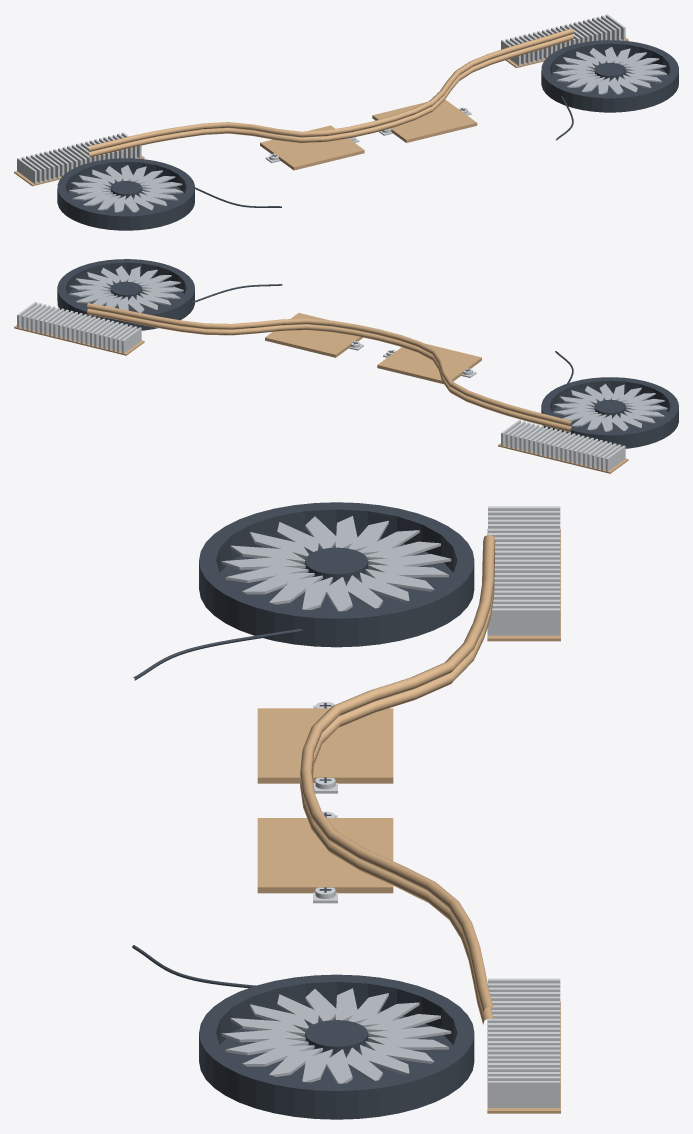
The model's file is cool.glb.
The picture shows the model from 3 angles, top to bottom: view 1: azimuth 30°, elevation 25°; view 2: azimuth 150°, elevation 25°; view 3: azimuth 270°, elevation 25°; orthographic projection. The views are drawn at different scales.
Parts seen in each view (by area): view 1: Refrigeración · doble ventilador, Rotor visible (×2); view 2: Refrigeración · doble ventilador, Rotor visible (×2); view 3: Refrigeración · doble ventilador, Rotor visible (×2).
Part boxes in pixels (x1,y1,x2,y2): Refrigeración · doble ventilador: [14, 14, 678, 230]; Rotor visible (×2): [68, 47, 667, 212]; Refrigeración · doble ventilador: [14, 259, 678, 473]; Rotor visible (×2): [69, 266, 667, 431]; Refrigeración · doble ventilador: [132, 502, 560, 1119]; Rotor visible (×2): [221, 516, 451, 1083].
Size of the model in its own units: 12.34 by 0.5375 by 3.8.
